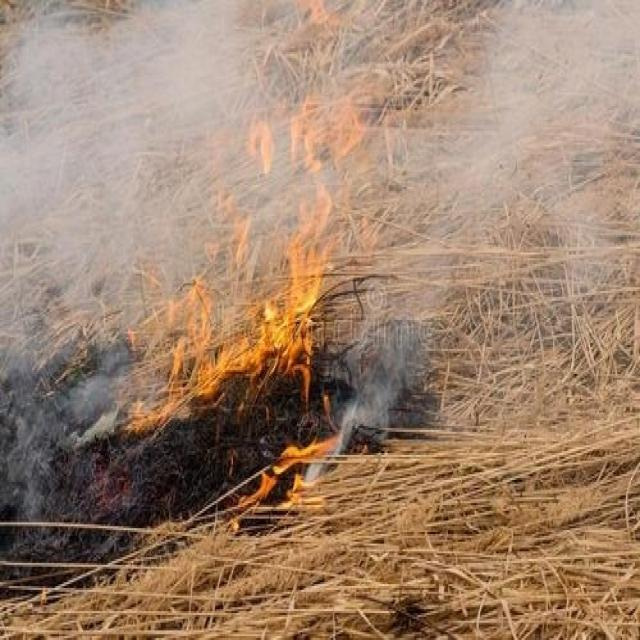Fire: (120, 94, 368, 534)
Smoke: (1, 2, 640, 480)
